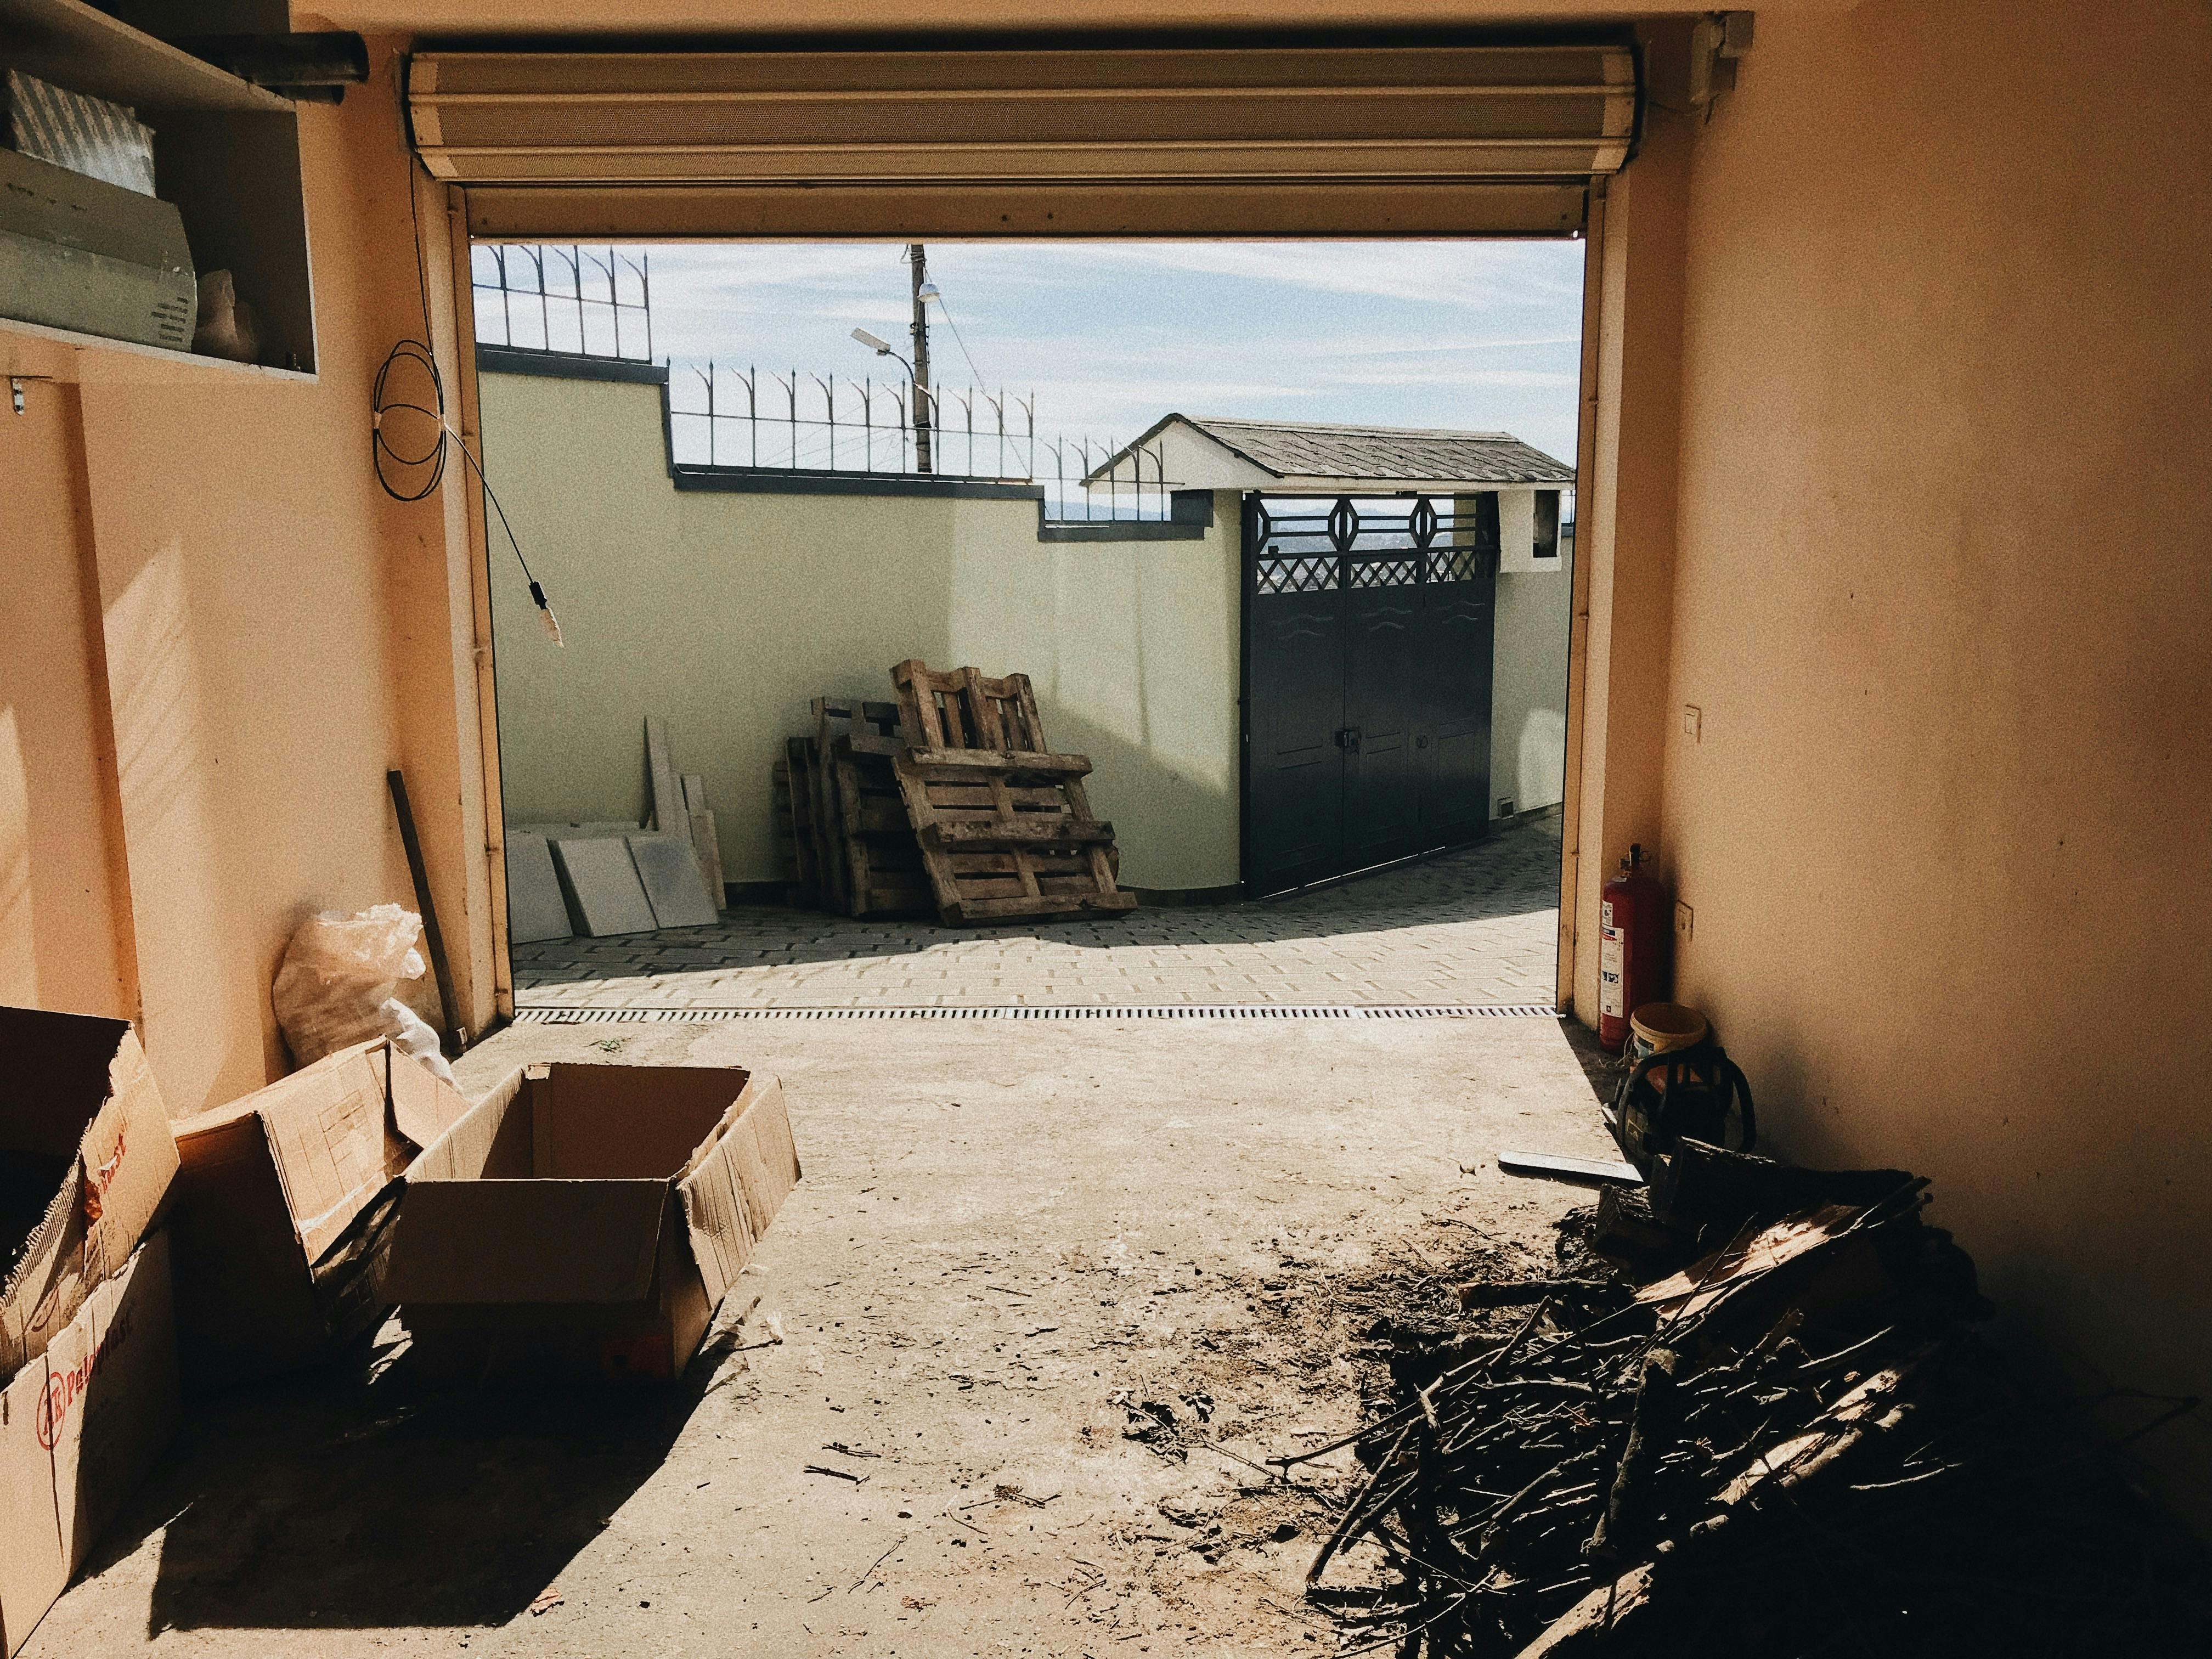extintor: (1592, 835, 1670, 1053)
